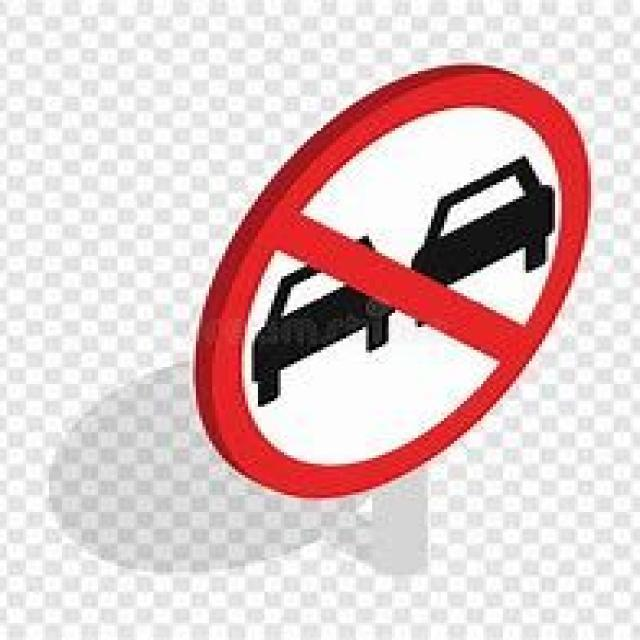overtaking prohibited: (165, 49, 599, 496)
